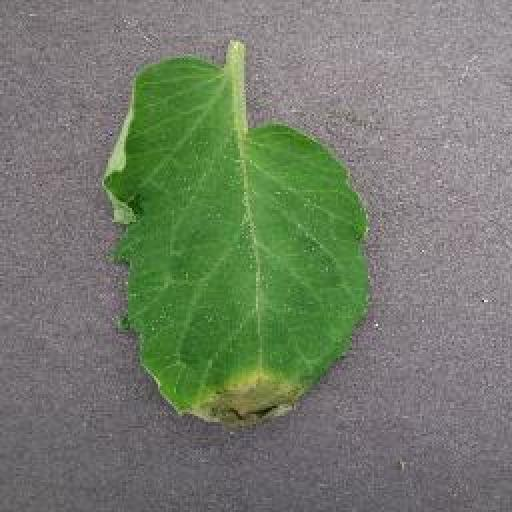disease_tomato: (101, 54, 372, 426)
